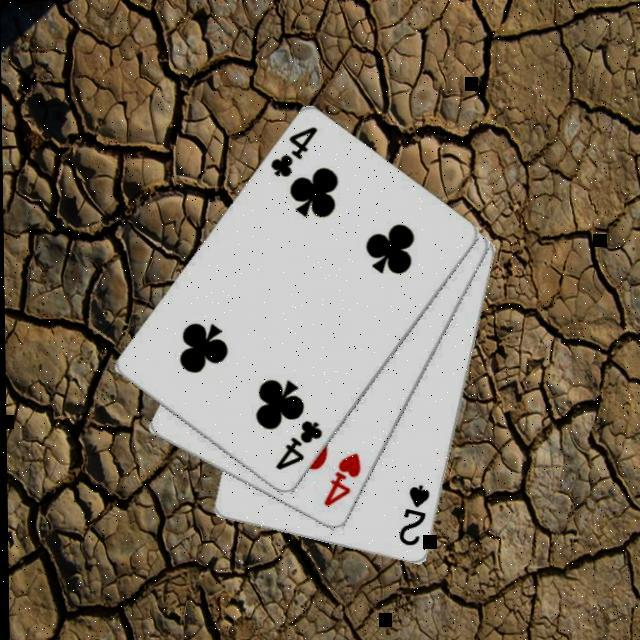2S: (396, 484, 434, 552)
4C: (268, 126, 324, 182), (272, 420, 326, 476)
4H: (320, 452, 366, 512)
